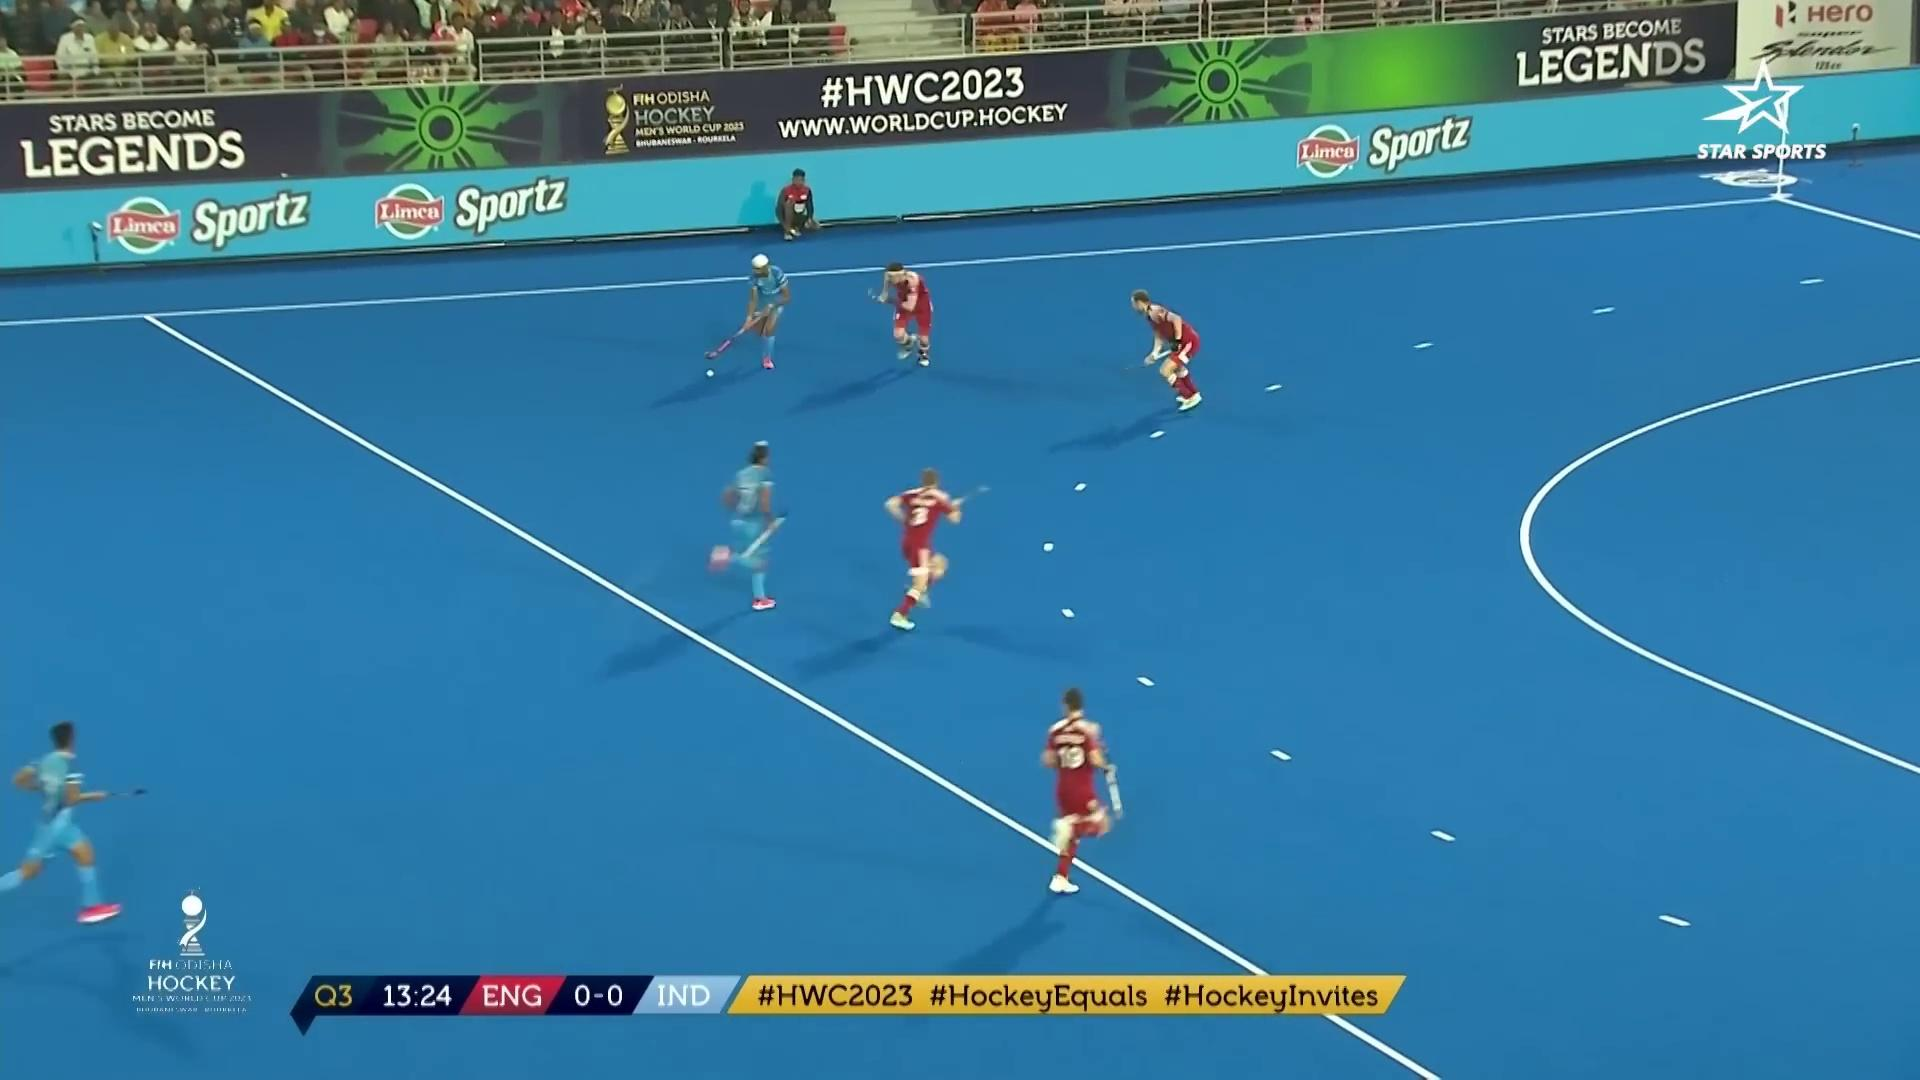ball: (703, 367, 717, 378)
